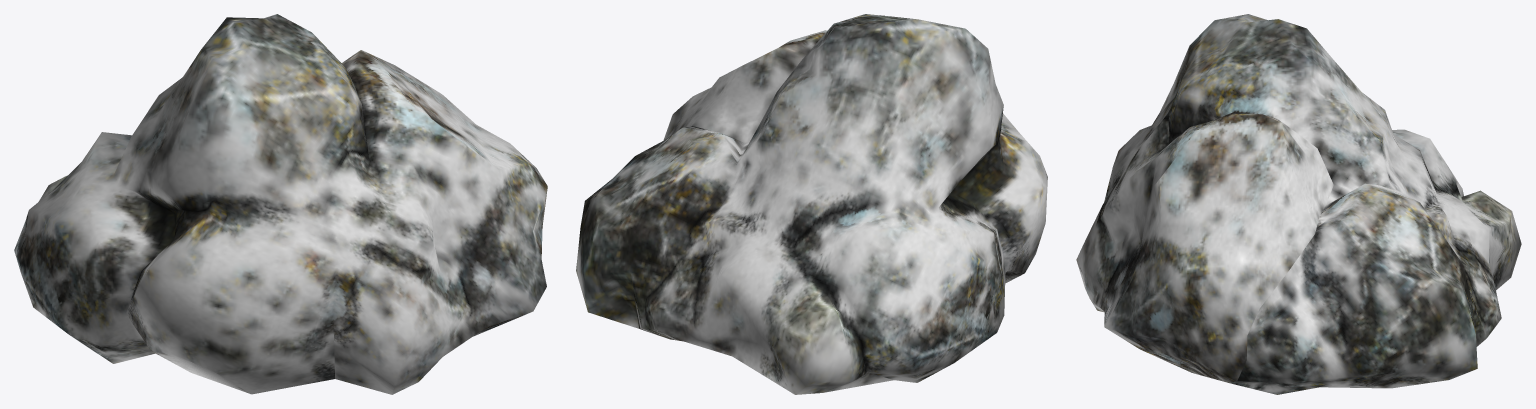
File: ShitouN.FBX
3 renders of one model, left to right at view 1: azimuth 30°, elevation 25°; view 2: azimuth 150°, elevation 25°; view 3: azimuth 270°, elevation 25°, orthographic. The views are drawn at different scales.
Parts seen in each view (by area): view 1: stonegr6_LP2_stonegr6_LP2; view 2: stonegr6_LP2_stonegr6_LP2; view 3: stonegr6_LP2_stonegr6_LP2.
Part boxes in pixels (x1,y1,x2,y2): stonegr6_LP2_stonegr6_LP2: (14,14,547,394); stonegr6_LP2_stonegr6_LP2: (576,14,1047,394); stonegr6_LP2_stonegr6_LP2: (1076,14,1521,394).
Size of the model in its own units: 6.21 by 4.54 by 6.39.
